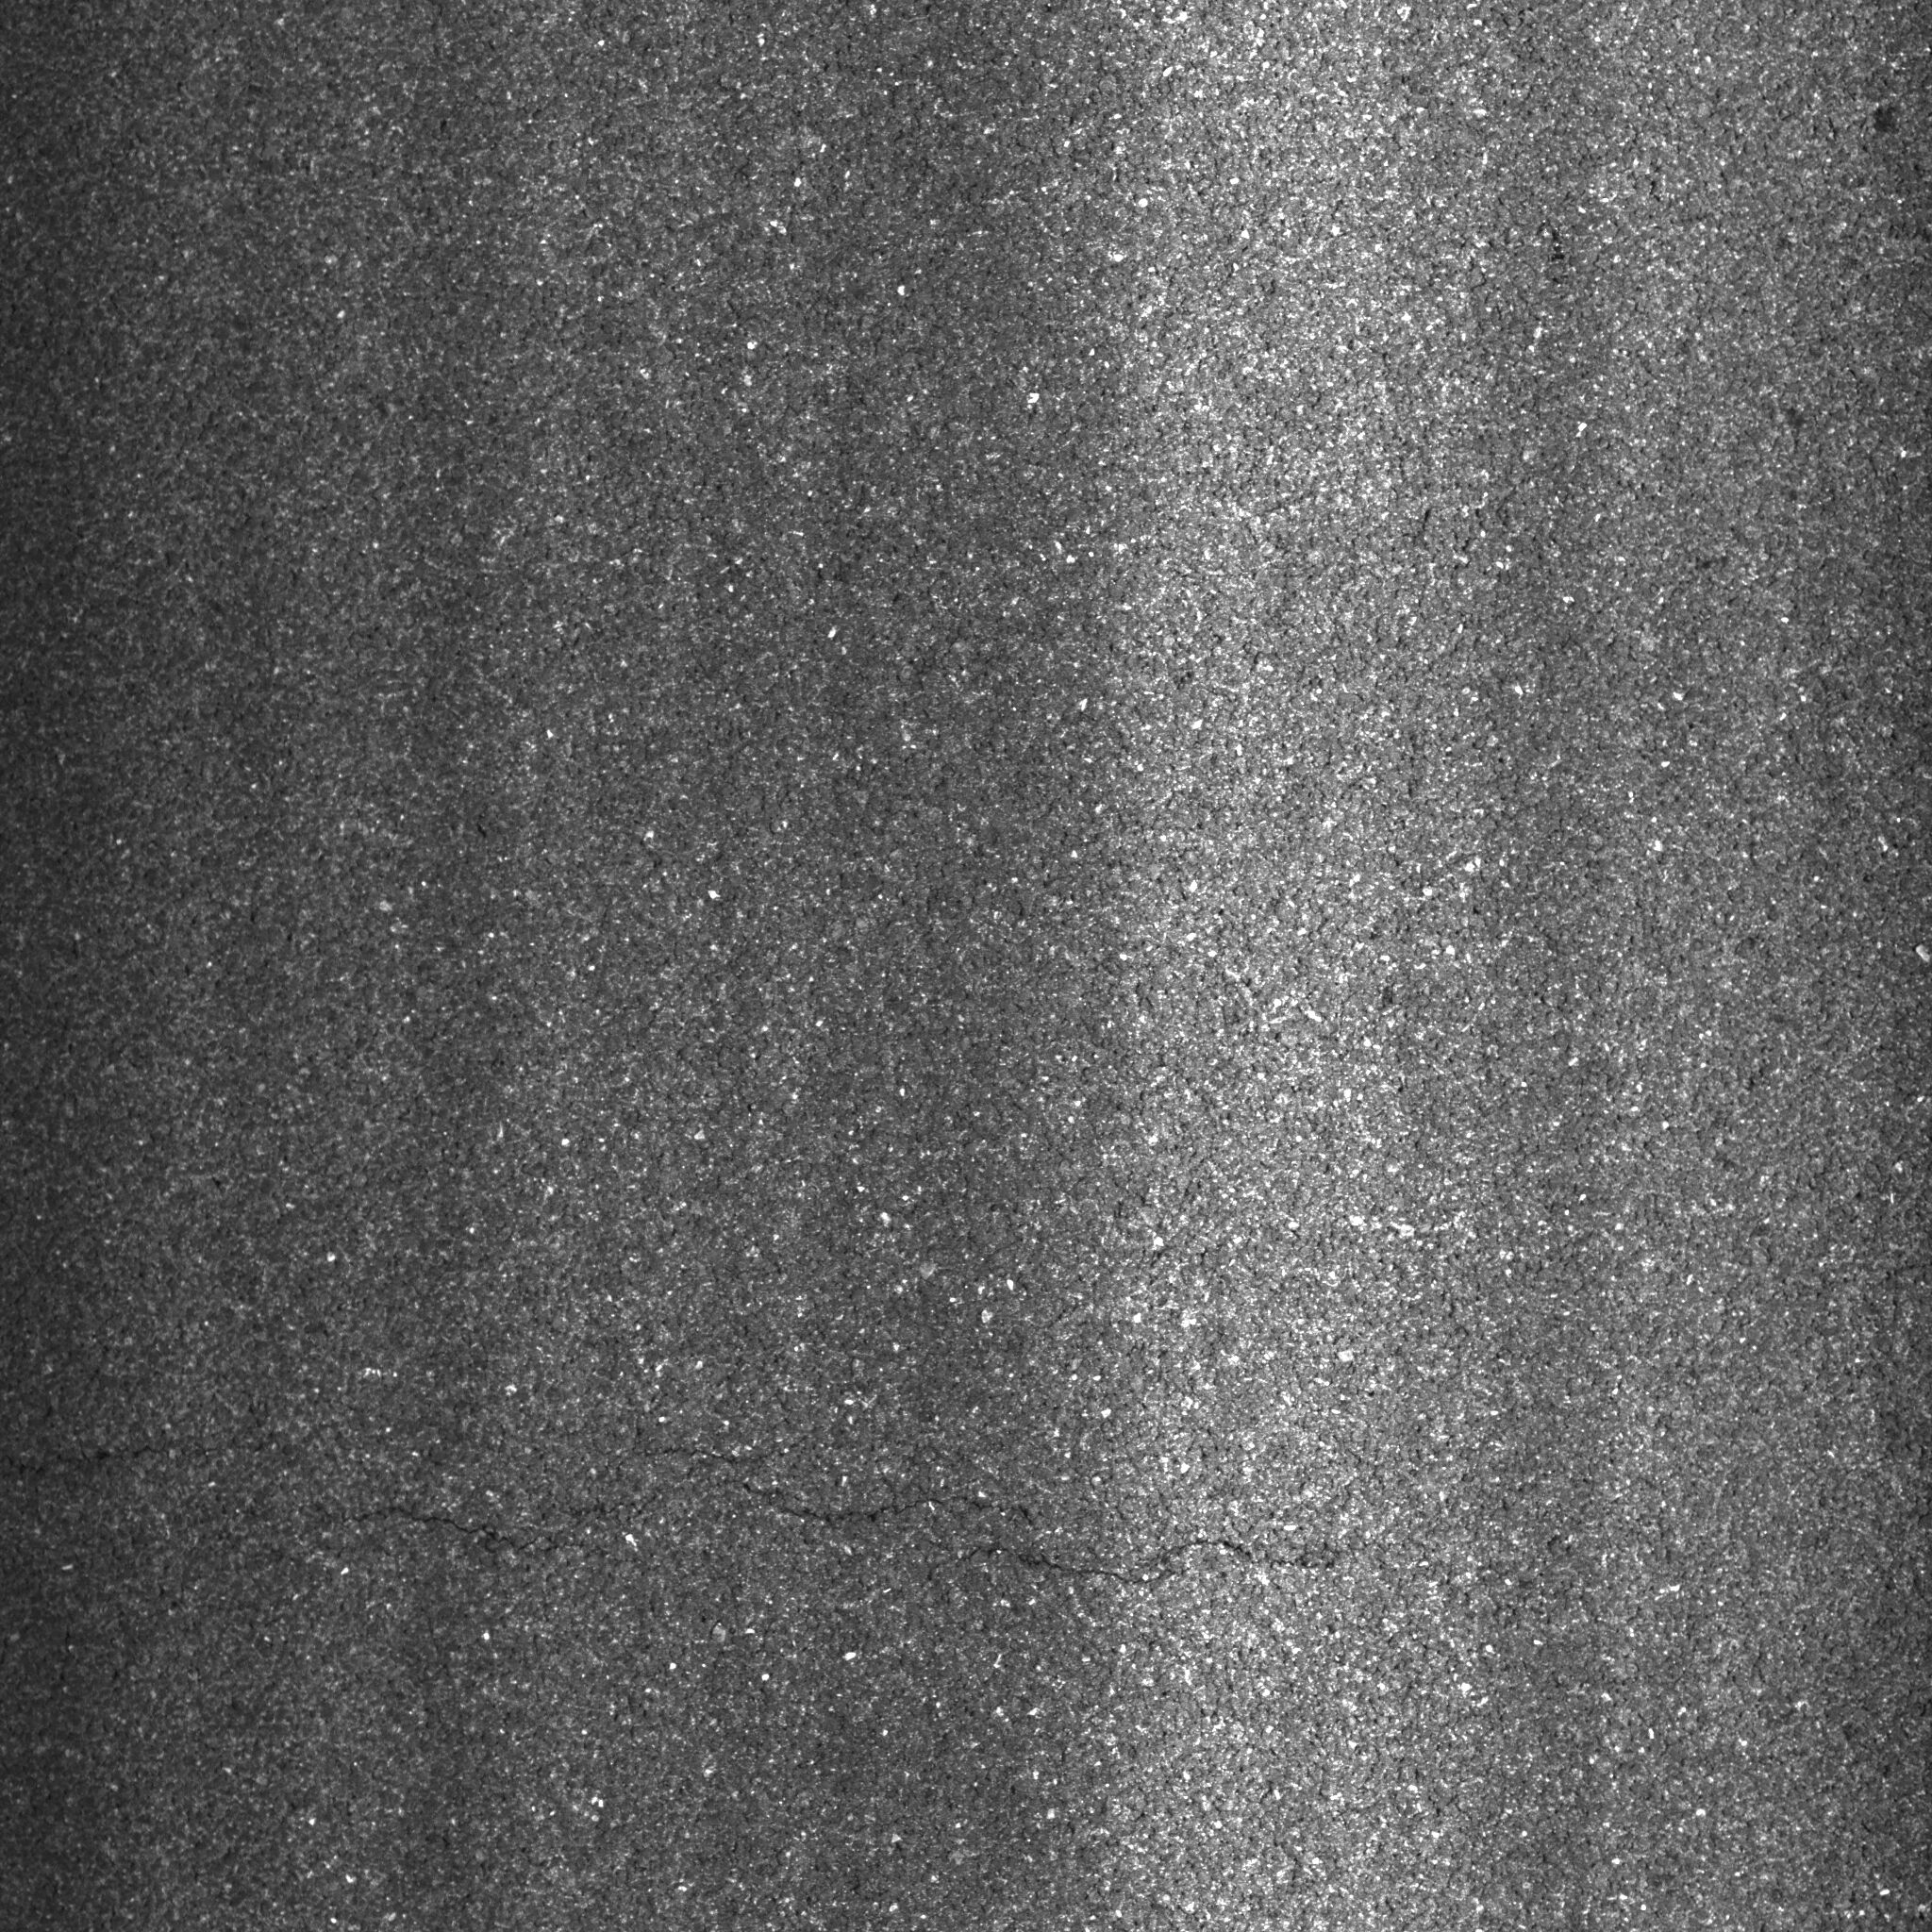transverse: (41, 1394, 1476, 1617)
